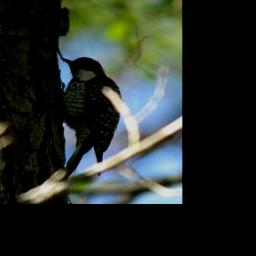Woodpecker: (58, 55, 123, 180)
